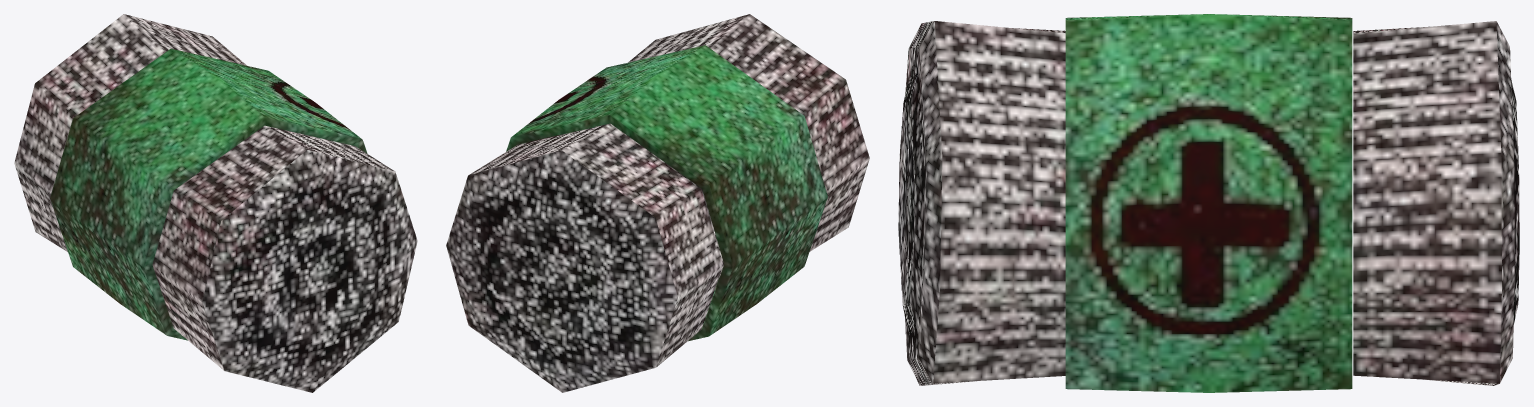
File: bandage.glb
The picture shows the model from 3 angles, left to right: view 1: azimuth 30°, elevation 25°; view 2: azimuth 150°, elevation 25°; view 3: azimuth 270°, elevation 25°; orthographic projection. The views are drawn at different scales.
Visible parts, largest first — view 1: Paper_01 - Default_0; view 2: Paper_01 - Default_0; view 3: Paper_01 - Default_0.
Boxes of the visible parts, bbox=[...] form: Paper_01 - Default_0: bbox=[14, 14, 417, 392]; Paper_01 - Default_0: bbox=[446, 14, 869, 392]; Paper_01 - Default_0: bbox=[898, 14, 1519, 392].
Bounding box in the file's own units: 0.1329 × 0.1307 × 0.1945.
Materials: 1 (1 with a texture image).
